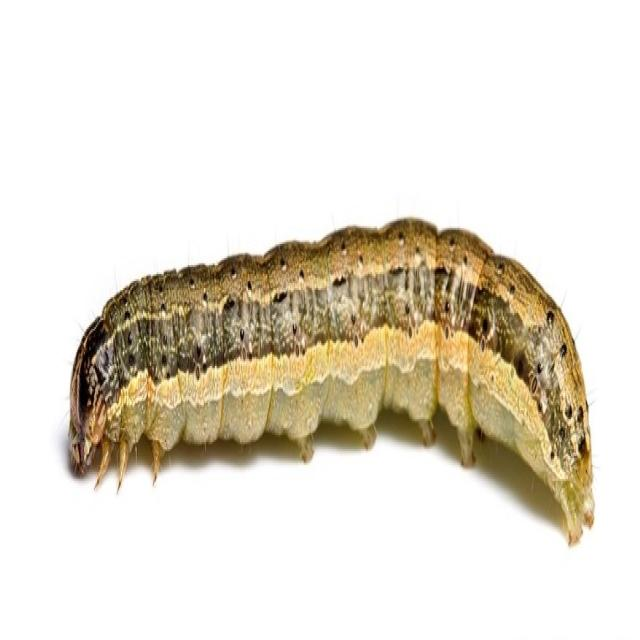Fall-armyworm: (63, 213, 600, 552)
